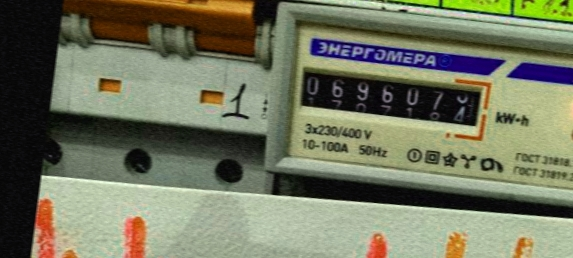0: (403, 83, 421, 107), (304, 73, 320, 96)
4: (451, 102, 467, 125)
6: (329, 75, 345, 98), (378, 82, 395, 103)
7: (428, 88, 445, 111)
9: (354, 78, 369, 101)
screen: (284, 54, 496, 139)
